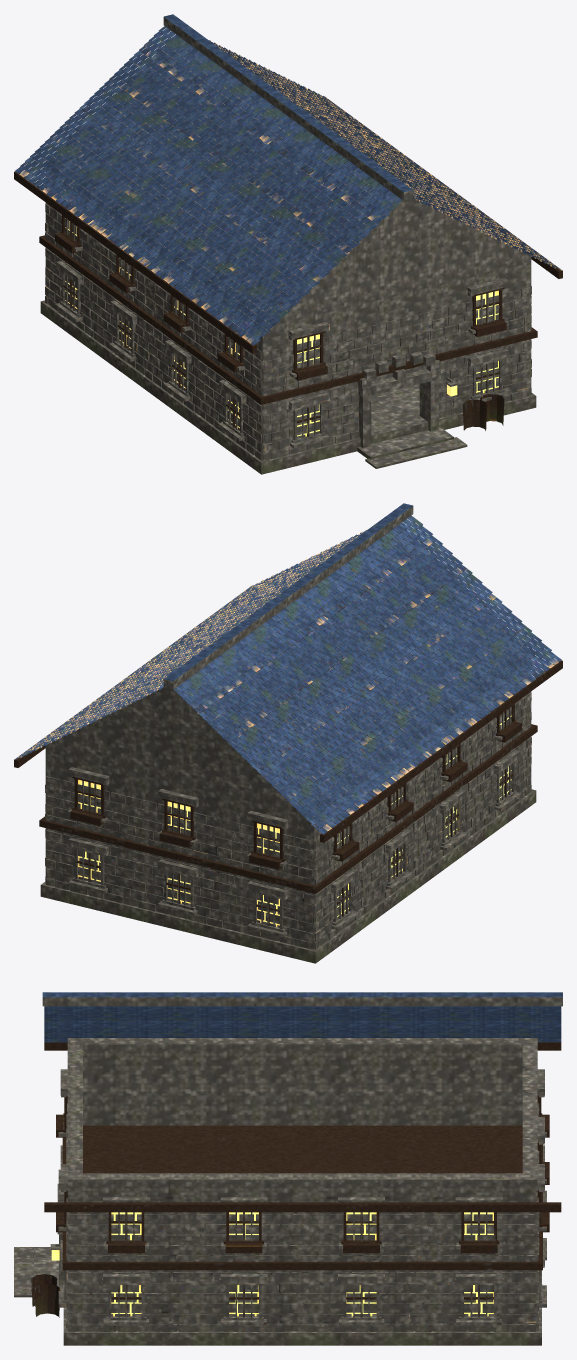
Rendered from bld_crypt_card.glb.
The picture shows the model from 3 angles, top to bottom: view 1: azimuth 30°, elevation 25°; view 2: azimuth 150°, elevation 25°; view 3: azimuth 270°, elevation 25°; orthographic projection. The views are drawn at different scales.
Visible parts, largest first — view 1: crypt_card; view 2: crypt_card; view 3: crypt_card.
Boxes of the visible parts, x1,y1,x2,y2 form: crypt_card: (14,14,562,474); crypt_card: (14,503,562,963); crypt_card: (14,992,562,1345).
Size of the model in its own units: 19.65 by 15.56 by 27.8.
Materials: 1 (1 with a texture image).
